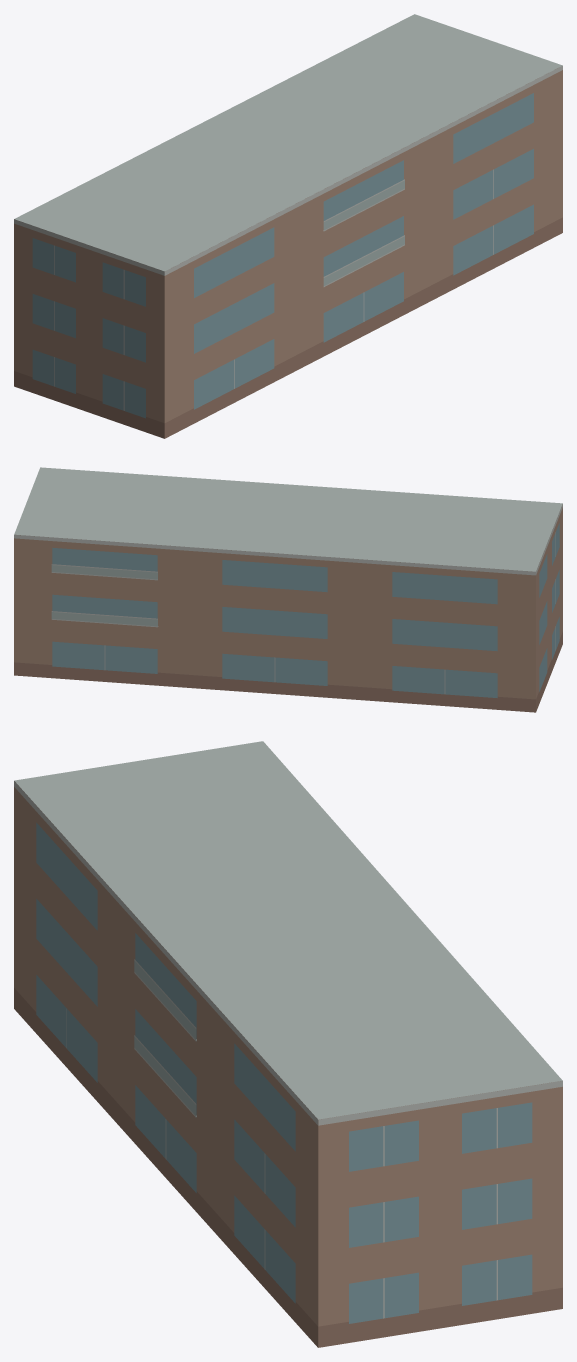
File: survey-upis-32864027.glb
3 renders of one model, top to bottom at view 1: azimuth 30°, elevation 25°; view 2: azimuth 150°, elevation 25°; view 3: azimuth 270°, elevation 25°, orthographic. The views are drawn at different scales.
Visible parts, largest first — view 1: survey-upis-32864027.tmp; view 2: survey-upis-32864027.tmp; view 3: survey-upis-32864027.tmp.
Part boxes in pixels (x1=…): survey-upis-32864027.tmp: x1=14, y1=14, x2=562, y2=438; survey-upis-32864027.tmp: x1=14, y1=467, x2=562, y2=712; survey-upis-32864027.tmp: x1=14, y1=741, x2=562, y2=1347.
Size of the model in its own units: 32.56 by 9.15 by 19.95.
